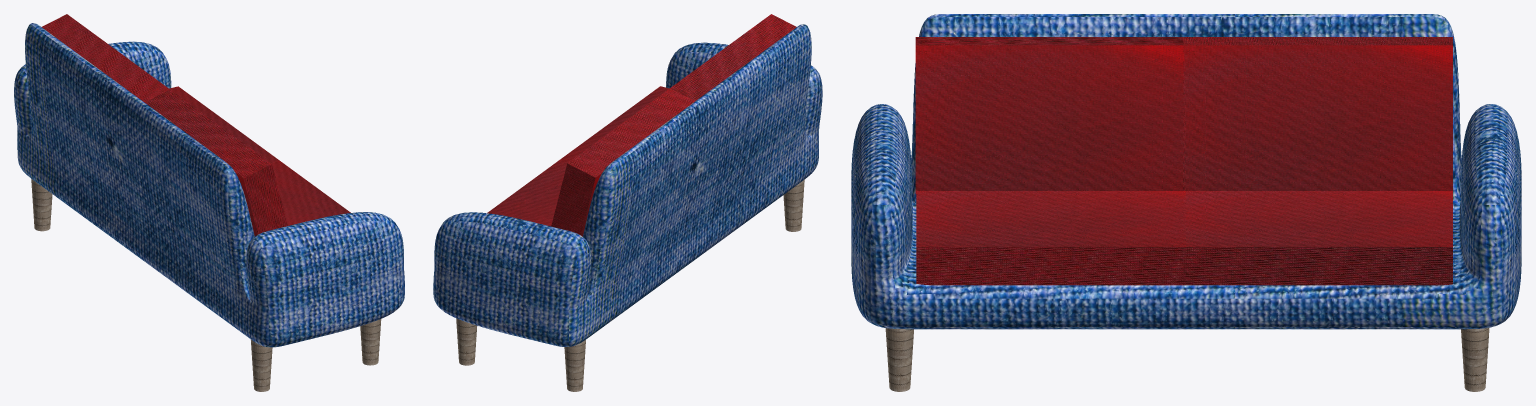
File: Sillon.obj
The picture shows the model from 3 angles, left to right: view 1: azimuth 30°, elevation 25°; view 2: azimuth 150°, elevation 25°; view 3: azimuth 270°, elevation 25°; orthographic projection. The views are drawn at different scales.
Visible parts, largest first — view 1: Sillon; view 2: Sillon; view 3: Sillon.
Part boxes in pixels (box(x1,y1,x2,y2)): Sillon: box(14, 14, 404, 391); Sillon: box(433, 14, 822, 391); Sillon: box(851, 14, 1521, 391).
Size of the model in its own units: 1.51 by 1.91 by 4.
3 materials, 3 textured.
